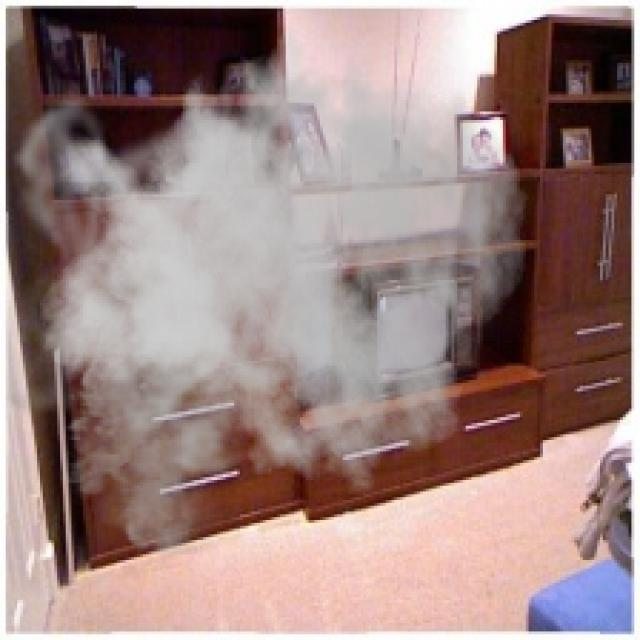Smoke: (5, 0, 529, 555)
